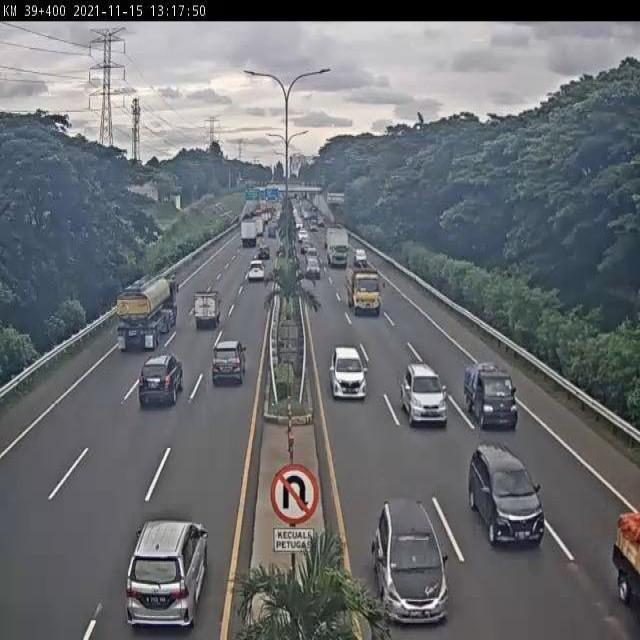car: (374, 500, 453, 625), (127, 518, 207, 626), (468, 442, 545, 554), (465, 359, 519, 429), (402, 364, 448, 427), (139, 354, 186, 406), (330, 348, 369, 403), (212, 340, 247, 385), (193, 288, 223, 328), (248, 258, 267, 278)
truck-m-: (345, 265, 383, 316)
truck-xl-: (116, 274, 181, 350)
